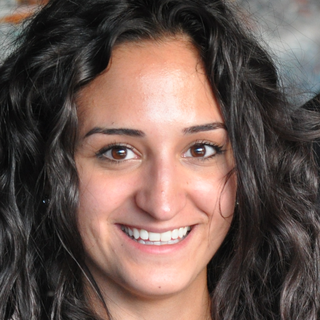eye: (176, 139, 225, 167), (91, 142, 145, 167)
